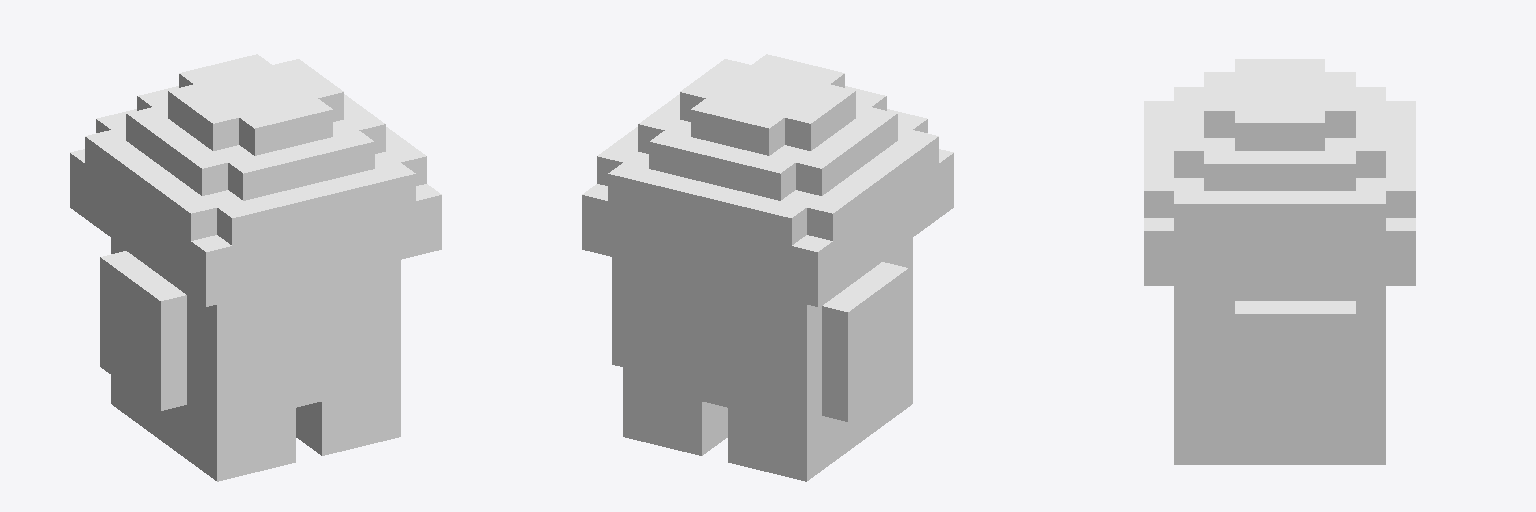
The model's file is chr_nazi.obj.
3 renders of one model, left to right at view 1: azimuth 30°, elevation 25°; view 2: azimuth 150°, elevation 25°; view 3: azimuth 270°, elevation 25°, orthographic.
Size of the model in its own units: 9 by 12 by 9.